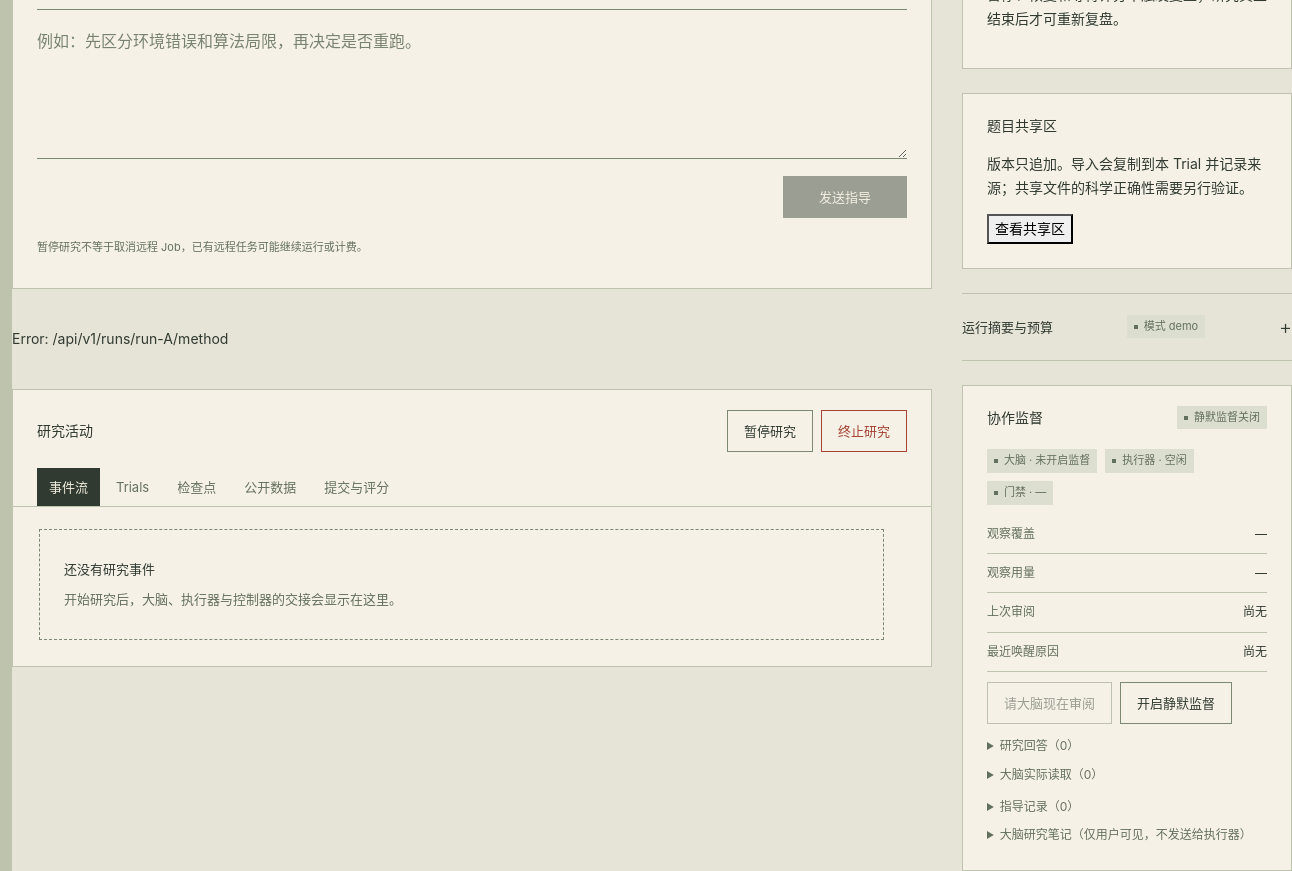
it: research selection and lifecycle safety › does not show a stale package preflight after the package path changes
(page scrolled)
Click the tab "提交与评分": (357, 487) [312,468,401,506]
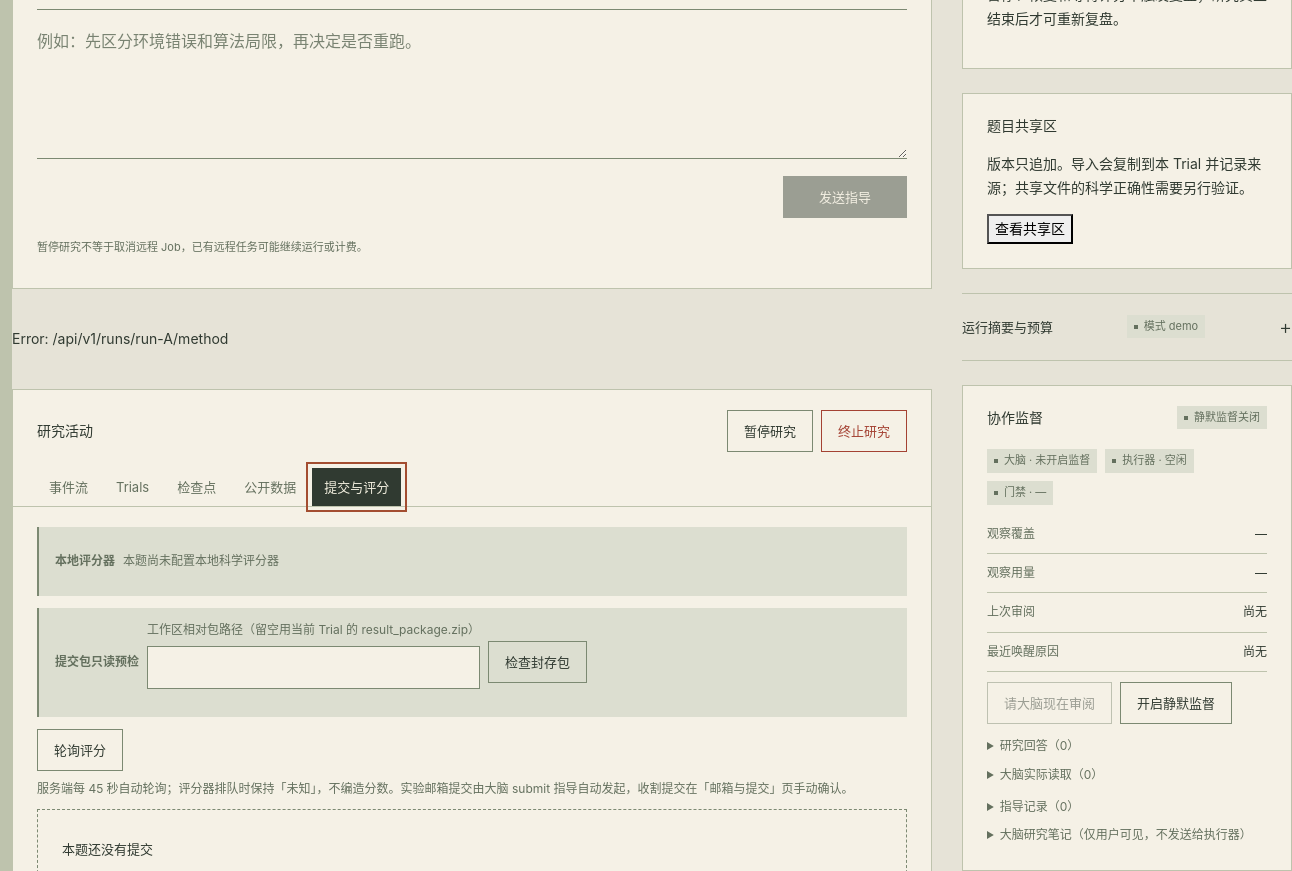
In the field labelled "工作区相对包路径（留空用当前 Trial 的 result_package.zip）": (314, 667) [147,646,480,689], type "first.zip"
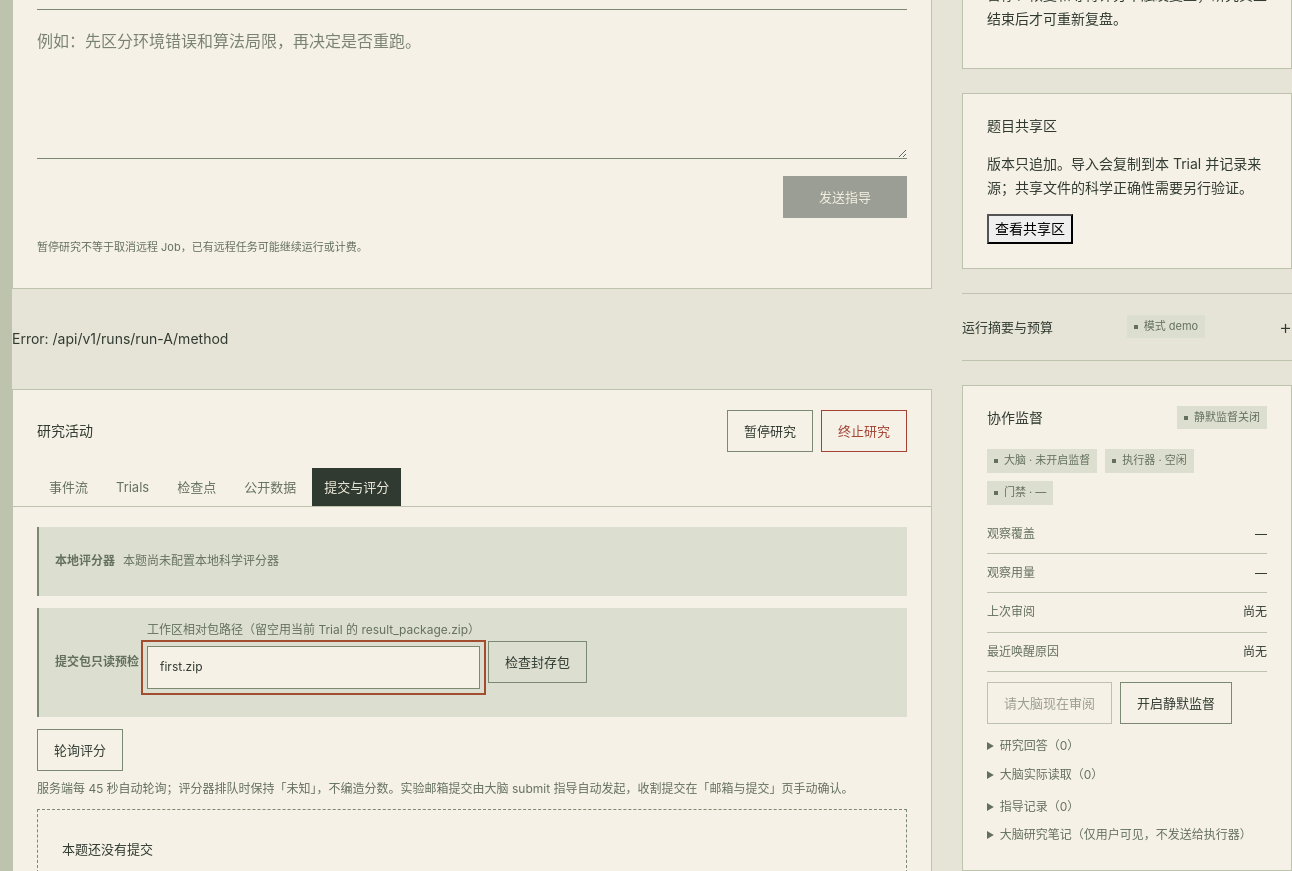
Click the button "检查封存包": (538, 662) [488,641,587,683]
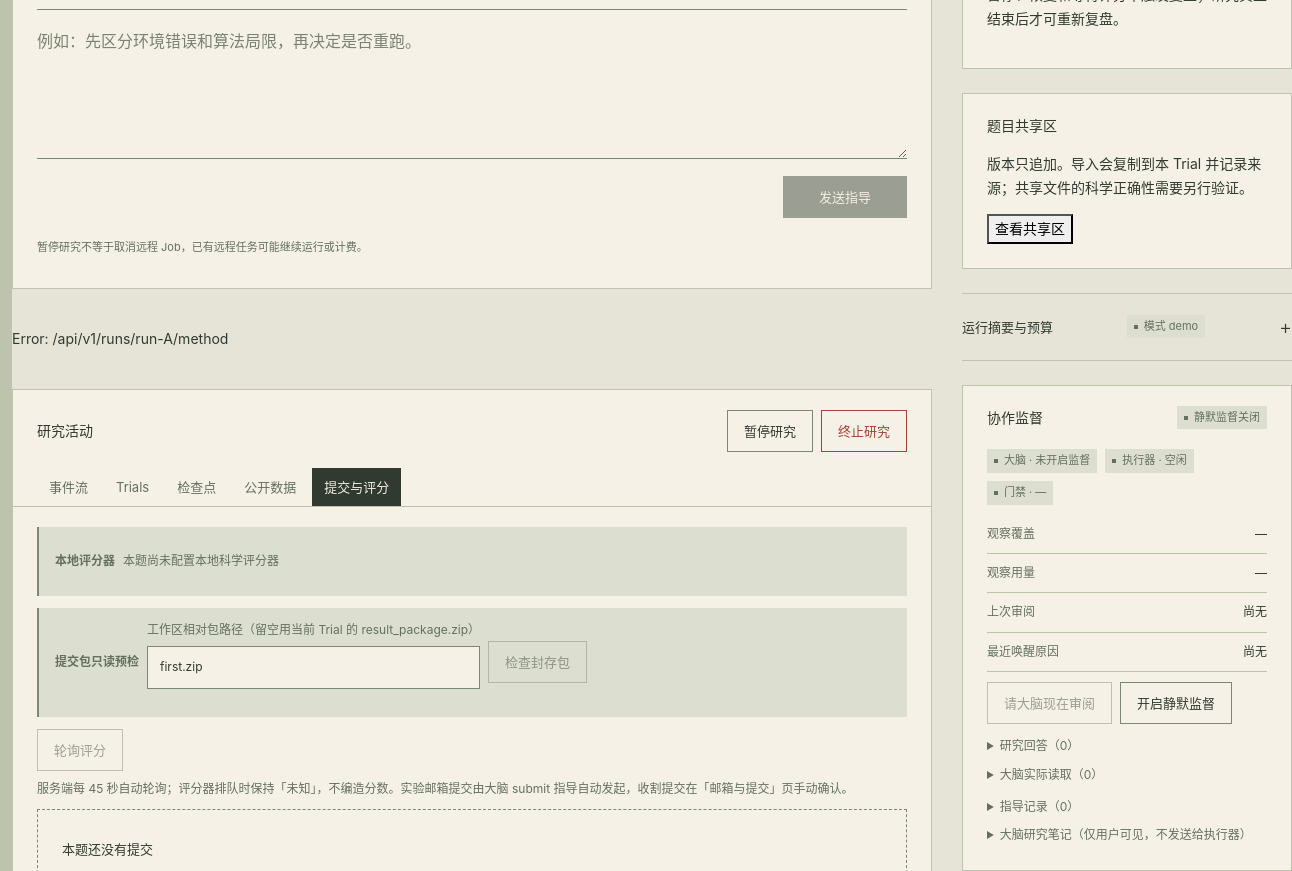
Replace the text in the field labelled "工作区相对包路径（留空用当前 Trial 的 result_package.zip）" with "second.zip": (314, 667) [147,646,480,689]
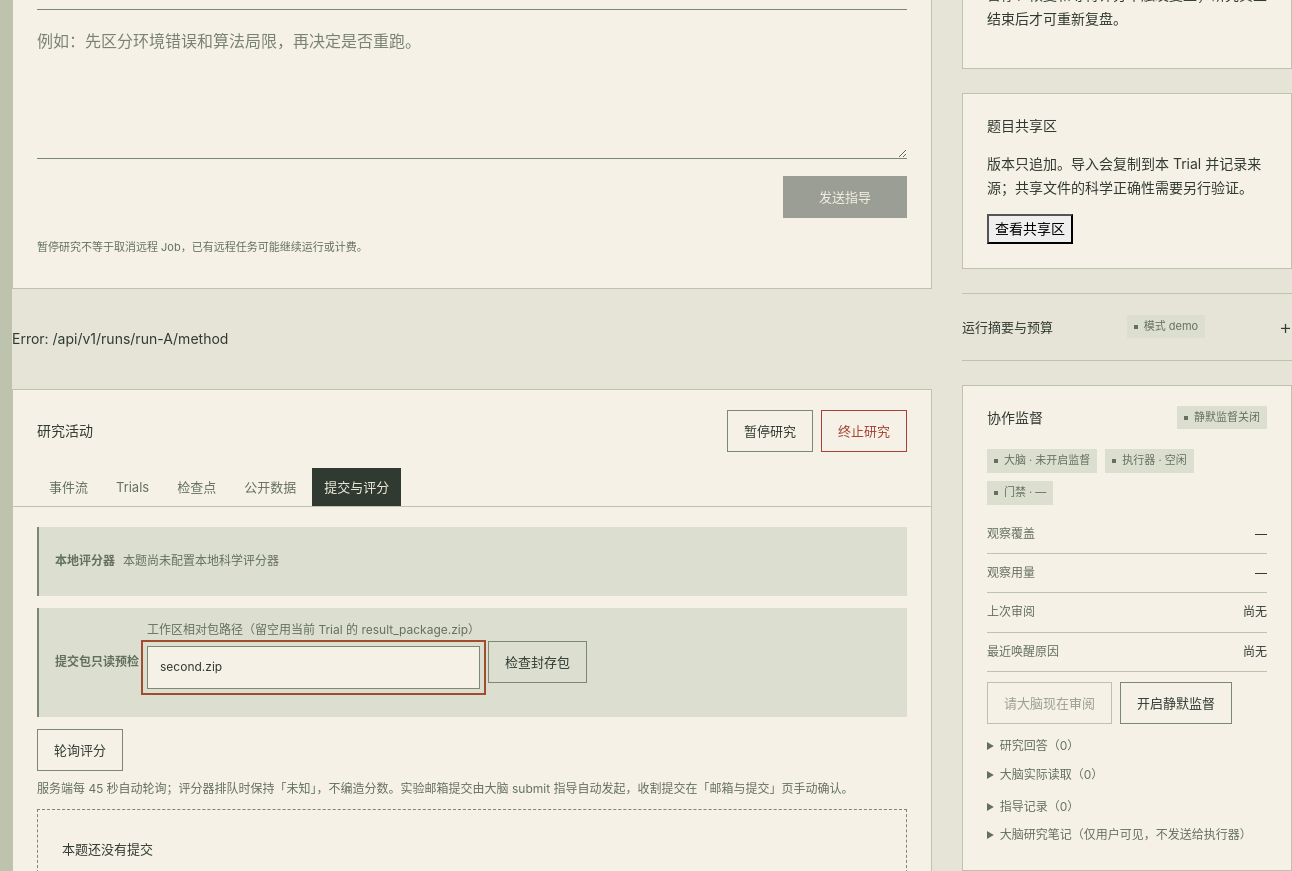
Click the button "检查封存包": (538, 662) [488,641,587,683]
(page scrolled)
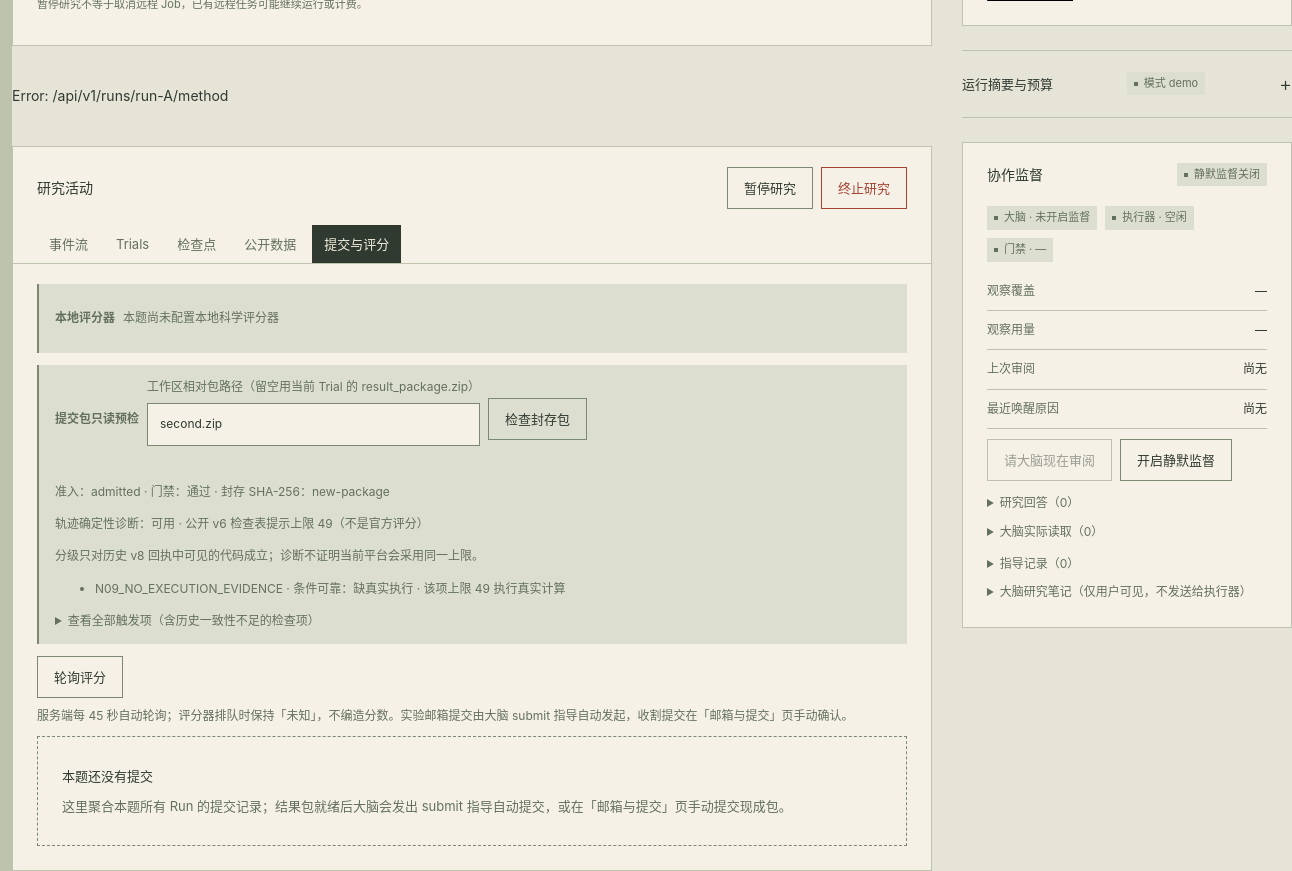
Result: the text "准入：admitted · 门禁：通过 · 封存 SHA-256：new-package" is shown at [55,484,390,498]
Result: the list item "N09_NO_EXECUTION_EVIDENCE · 条件可靠：缺真实执行 · 该项上限 49 执行真实计算" is shown at [95,579,565,599]
Click the heading "查看全部触发项（含历史一致性不足的检查项）": (194, 621) [68,613,320,628]
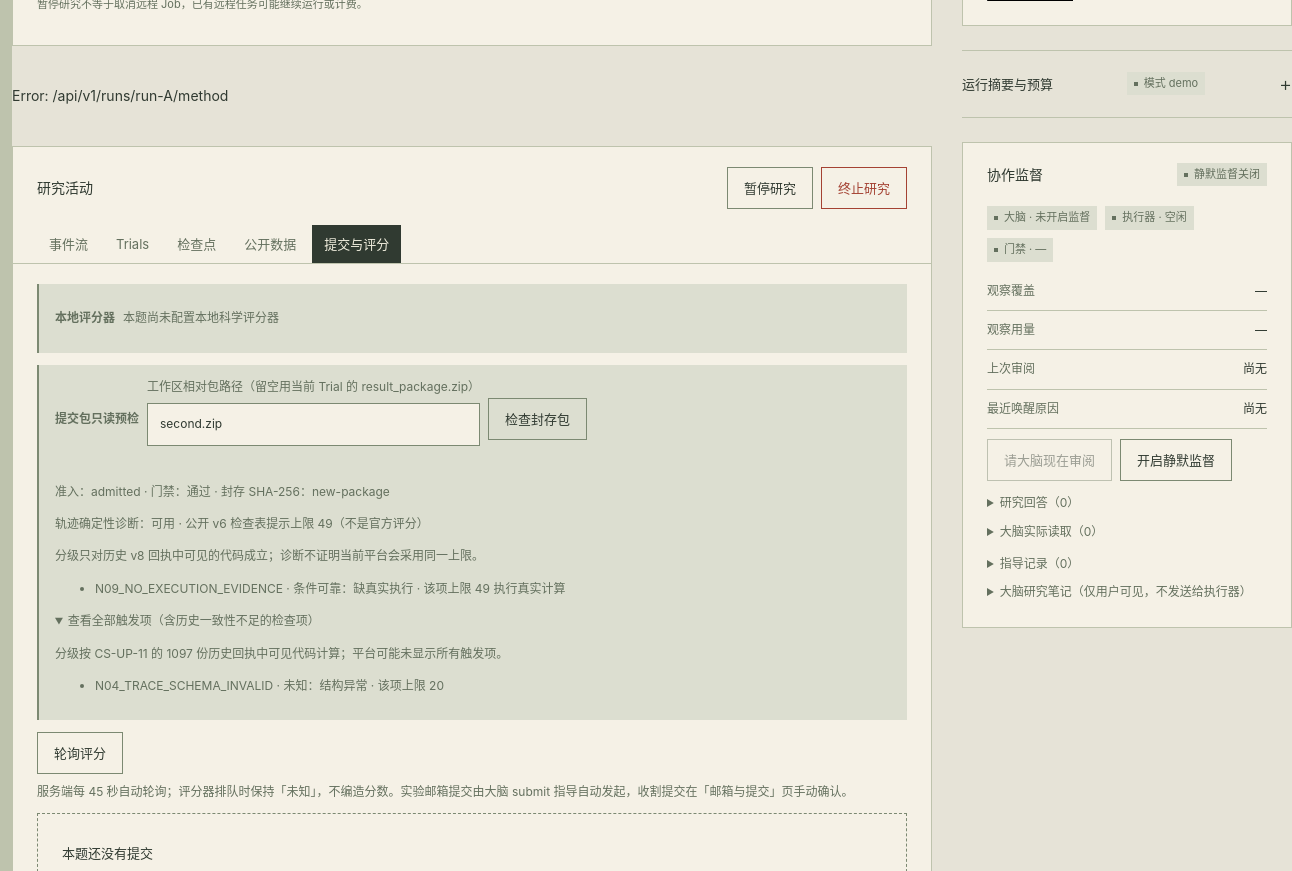
Result: the list item "N04_TRACE_SCHEMA_INVALID · 未知：结构异常 · 该项上限 20" is shown at [95,678,444,693]
